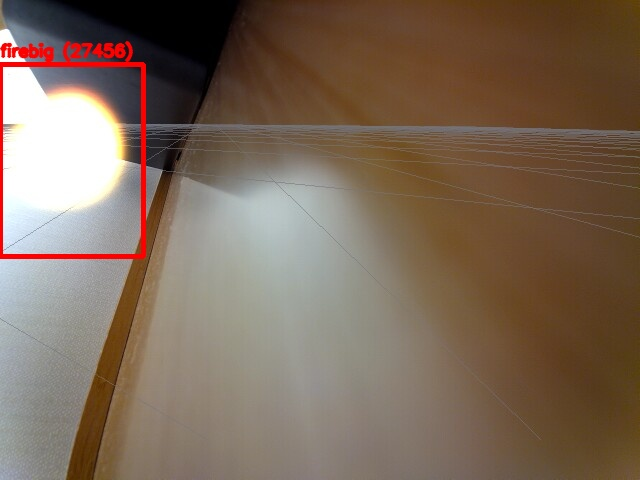firebig: (0, 64, 143, 256)
